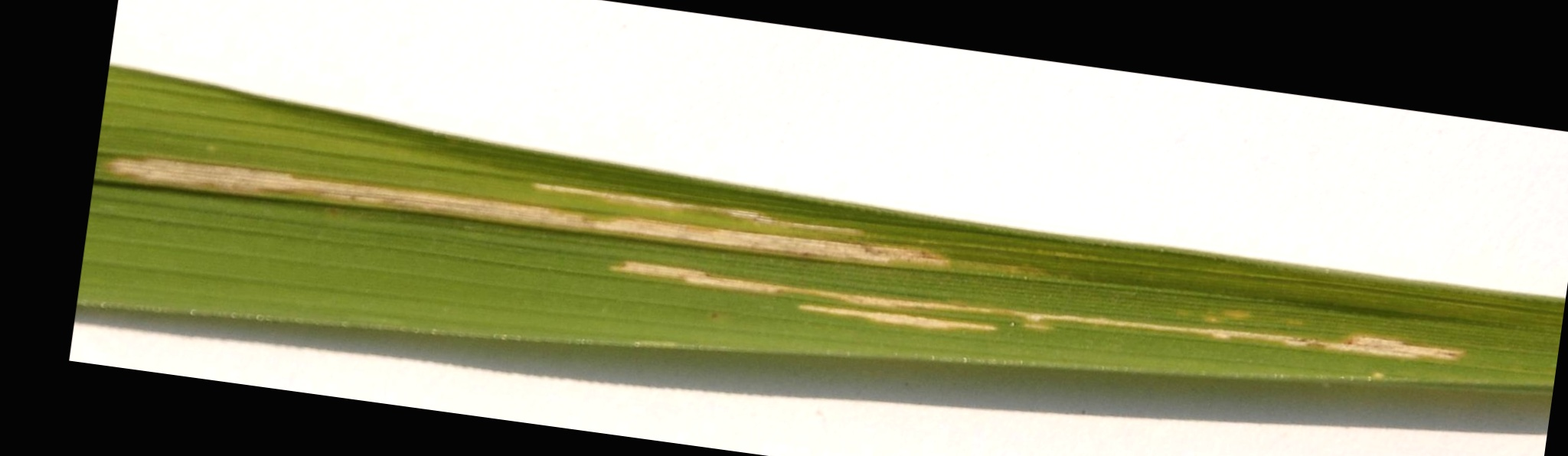Leaf_Blast: (111, 197, 1530, 337)
